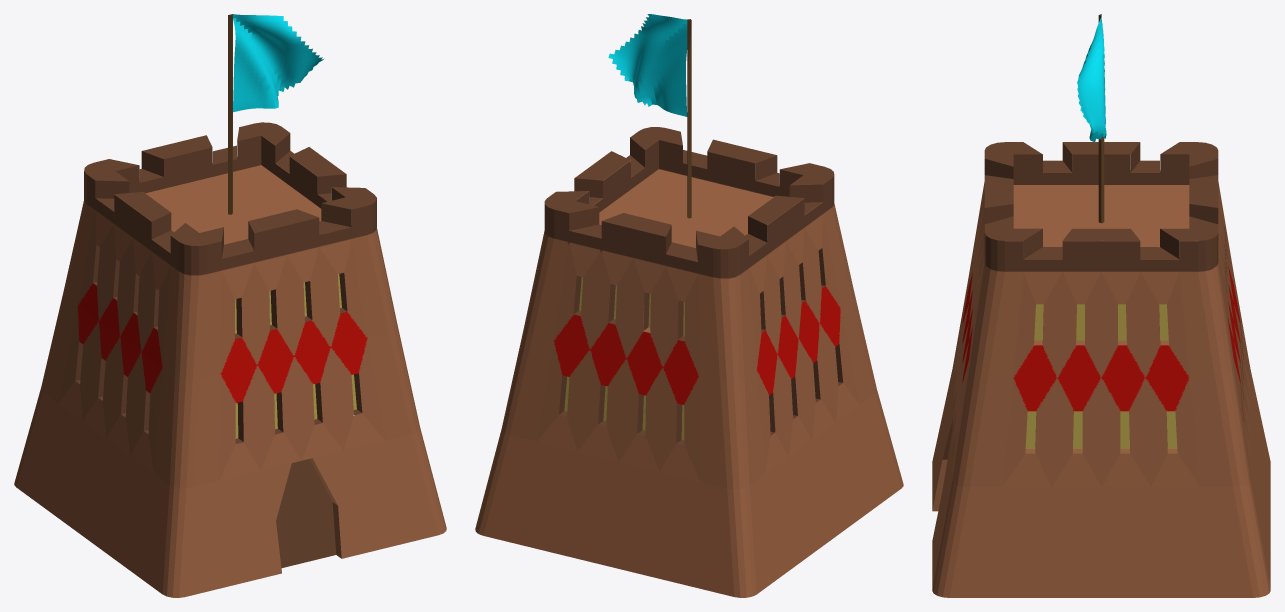
The model's file is endir-castle.glb.
3 views of the same model, side by side, from view 1: azimuth 30°, elevation 25°; view 2: azimuth 150°, elevation 25°; view 3: azimuth 270°, elevation 25° (orthographic). The views are drawn at different scales.
Visible parts, largest first — view 1: castle, flag, stick; view 2: castle, flag, stick; view 3: castle, flag, stick.
Part boxes in pixels (x1,y1,x2,y2): castle: (14,122,446,597); flag: (233,14,324,112); stick: (228,14,232,214); castle: (475,127,903,597); flag: (608,14,687,116); stick: (687,19,691,218); castle: (932,142,1270,597); flag: (1077,17,1106,142); stick: (1098,14,1104,223).
Bounding box in the file's own units: 12 × 20 × 12.
Materials: 3 (1 with a texture image).
